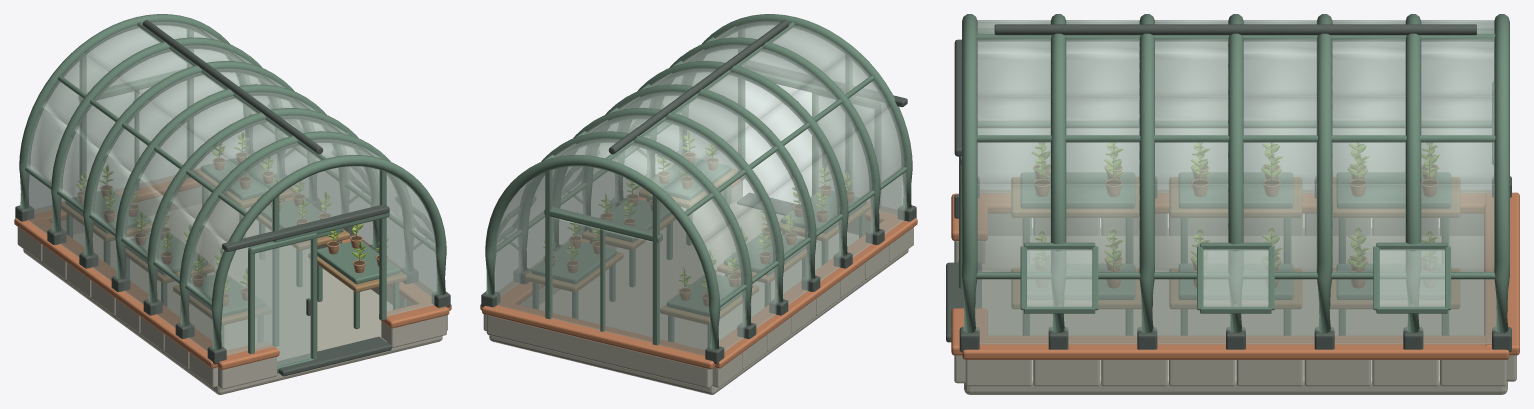
Rendered from arched_nursery_greenhouse.glb.
The picture shows the model from 3 angles, left to right: view 1: azimuth 30°, elevation 25°; view 2: azimuth 150°, elevation 25°; view 3: azimuth 270°, elevation 25°; orthographic projection. The views are drawn at different scales.
Parts seen in each view (by area): view 1: Greenhouse_Interior_Floor, Sliding_Entry_Glazing, Rear_Central_Glazing, Endwall_Side_Glazing_-1_1, Vault_Structural_Rib_0, Endwall_Side_Glazing_-1_-1, Endwall_Transom_Glazing_-1, Vault_Structural_Rib_1, Endwall_Side_Glazing_1_-1, Vault_Structural_Rib_2, Side_Terracotta_Coping_-1, Vault_Structural_Rib_3 (+87 smaller); view 2: Greenhouse_Interior_Floor, Rear_Central_Glazing, Endwall_Side_Glazing_1_-1, Endwall_Side_Glazing_1_1, Vault_Structural_Rib_6, Endwall_Transom_Glazing_1, Rear_Foundation_Course, Endwall_Side_Glazing_-1_-1, Vault_Structural_Rib_5, Vault_Structural_Rib_4, Side_Terracotta_Coping_-1, Vault_Structural_Rib_3 (+82 smaller); view 3: Greenhouse_Interior_Floor, Side_Terracotta_Coping_1, Roof_Glazing_Bay_0_Strip_0, Roof_Glazing_Bay_5_Strip_0, Roof_Glazing_Bay_3_Strip_0, Roof_Glazing_Bay_1_Strip_0, Roof_Glazing_Bay_4_Strip_0, Roof_Glazing_Bay_2_Strip_0, Roof_Glazing_Bay_4_Strip_1, Roof_Glazing_Bay_0_Strip_1, Roof_Glazing_Bay_1_Strip_1, Roof_Glazing_Bay_3_Strip_1 (+89 smaller).
Part boxes in pixels (bbox=[...]): Greenhouse_Interior_Floor: bbox=[23, 200, 442, 394]; Sliding_Entry_Glazing: bbox=[255, 240, 310, 366]; Rear_Central_Glazing: bbox=[87, 80, 187, 193]; Endwall_Side_Glazing_-1_1: bbox=[386, 173, 436, 316]; Vault_Structural_Rib_0: bbox=[211, 155, 446, 349]; Endwall_Side_Glazing_-1_-1: bbox=[221, 201, 272, 355]; Endwall_Transom_Glazing_-1: bbox=[279, 166, 379, 229]; Vault_Structural_Rib_1: bbox=[179, 131, 412, 326]; Endwall_Side_Glazing_1_-1: bbox=[29, 61, 79, 213]; Vault_Structural_Rib_2: bbox=[147, 108, 379, 302]; Side_Terracotta_Coping_-1: bbox=[14, 218, 231, 368]; Vault_Structural_Rib_3: bbox=[115, 84, 348, 279]; Greenhouse_Interior_Floor: bbox=[489, 200, 908, 394]; Rear_Central_Glazing: bbox=[551, 217, 652, 342]; Endwall_Side_Glazing_1_-1: bbox=[658, 201, 710, 355]; Endwall_Side_Glazing_1_1: bbox=[494, 173, 545, 316]; Vault_Structural_Rib_6: bbox=[485, 155, 720, 349]; Endwall_Transom_Glazing_1: bbox=[551, 166, 652, 234]; Rear_Foundation_Course: bbox=[486, 315, 712, 388]; Endwall_Side_Glazing_-1_-1: bbox=[851, 60, 902, 214]; Vault_Structural_Rib_5: bbox=[519, 131, 752, 326]; Vault_Structural_Rib_4: bbox=[553, 108, 784, 302]; Side_Terracotta_Coping_-1: bbox=[714, 218, 917, 368]; Vault_Structural_Rib_3: bbox=[583, 84, 816, 279]; Greenhouse_Interior_Floor: bbox=[964, 228, 1507, 394]; Side_Terracotta_Coping_1: bbox=[962, 336, 1509, 359]; Roof_Glazing_Bay_0_Strip_0: bbox=[977, 184, 1050, 272]; Roof_Glazing_Bay_5_Strip_0: bbox=[1421, 184, 1494, 272]; Roof_Glazing_Bay_3_Strip_0: bbox=[1243, 184, 1316, 272]; Roof_Glazing_Bay_1_Strip_0: bbox=[1066, 184, 1139, 272]; Roof_Glazing_Bay_4_Strip_0: bbox=[1332, 184, 1405, 272]; Roof_Glazing_Bay_2_Strip_0: bbox=[1155, 184, 1228, 272]; Roof_Glazing_Bay_4_Strip_1: bbox=[1332, 96, 1405, 184]; Roof_Glazing_Bay_0_Strip_1: bbox=[977, 96, 1050, 184]; Roof_Glazing_Bay_1_Strip_1: bbox=[1066, 96, 1139, 184]; Roof_Glazing_Bay_3_Strip_1: bbox=[1243, 96, 1316, 184].
Size of the model in its own units: 4.94 by 3.92 by 6.9.
